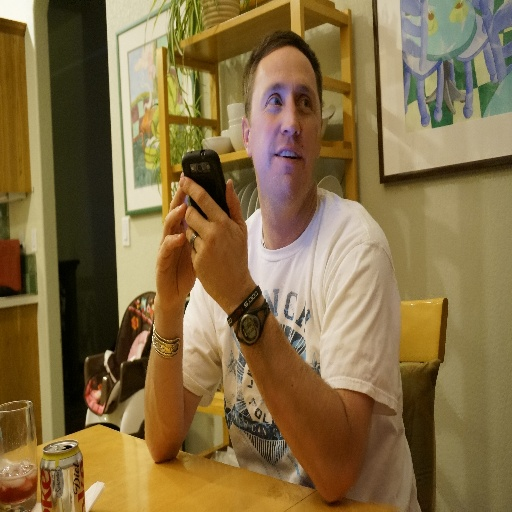hand: (178, 169, 254, 315), (153, 173, 197, 312)
